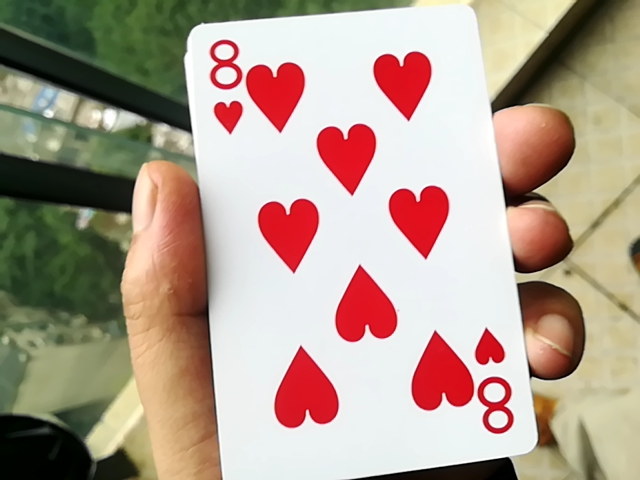hx 8: (179, 13, 531, 479)
